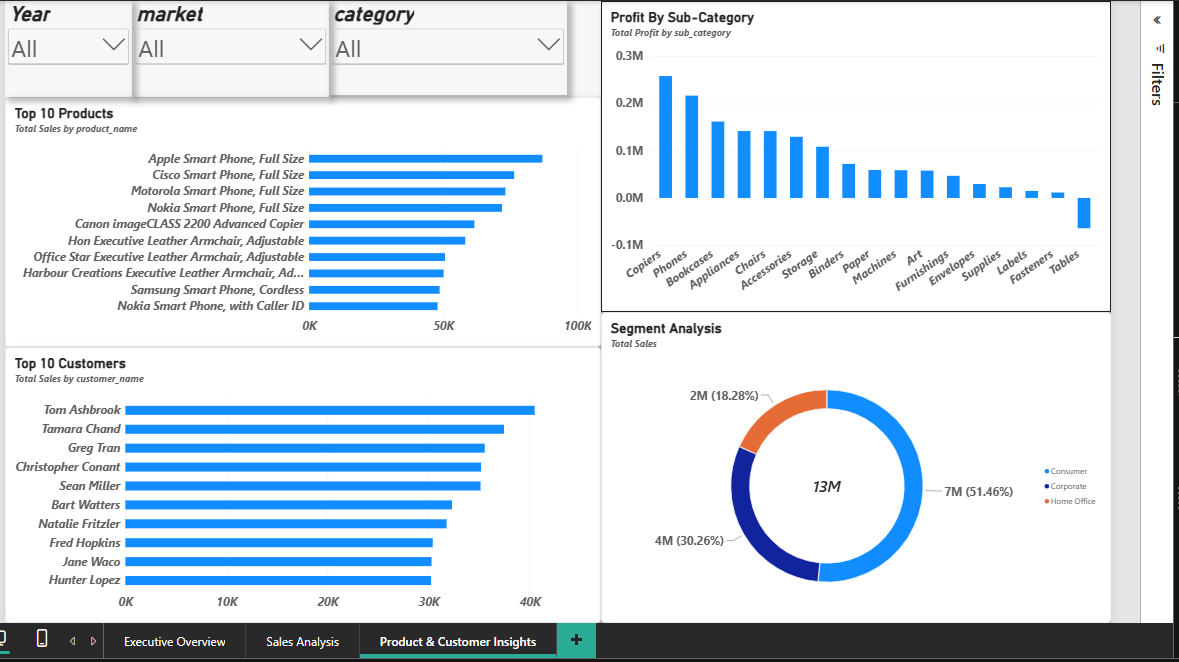

Layout of this report page (visuals, bound fields, positions):
{"tool":"powerbi","page":{"name":"Product & Customer Insights","canvas":[1920,1080],"ordinal":2},"visuals":[{"type":"clusteredBarChart","title":"Top 10 Products","fields":{"Category":["Orders.product_name"],"Y":["Orders.Total Sales"]},"box":[0,163.2,1034.9,434.1],"z":0},{"type":"clusteredBarChart","title":"Top 10 Customers","fields":{"Category":["Orders.customer_name"],"Y":["Orders.Total Sales"]},"box":[0,600.8,1034.9,479.2],"z":1000},{"type":"clusteredColumnChart","title":"Profit By Sub-Category","fields":{"Category":["Orders.sub_category"],"Y":["Orders.Total Profit"]},"box":[1034.9,0,885.5,540],"z":2000},{"type":"donutChart","title":"Segment Analysis","fields":{"Category":["Orders.segment"],"Y":["Orders.Total Sales"]},"box":[1034.9,540,885.5,540],"z":3000},{"type":"slicer","fields":{"Values":["Orders.year"]},"box":[0,0,219.8,165.8],"z":4000},{"type":"slicer","fields":{"Values":["Orders.market"]},"box":[219.8,0,341.6,165.8],"z":5000},{"type":"slicer","fields":{"Values":["Orders.category"]},"box":[562.6,0,412.5,162.5],"z":6000}]}

Visuals, with their boxes on the page's 1920x1080 design canvas (x1, y1, x2, y2). These are canvas units, not pixel positions in the 1179x662 screenshot, which may show the page scaled, cropped or inside an application window:
"Top 10 Products" clusteredBarChart: rect(0, 163, 1035, 597)
"Top 10 Customers" clusteredBarChart: rect(0, 601, 1035, 1080)
"Profit By Sub-Category" clusteredColumnChart: rect(1035, 0, 1920, 540)
"Segment Analysis" donutChart: rect(1035, 540, 1920, 1080)
slicer - Orders.year: rect(0, 0, 220, 166)
slicer - Orders.market: rect(220, 0, 561, 166)
slicer - Orders.category: rect(563, 0, 975, 162)
